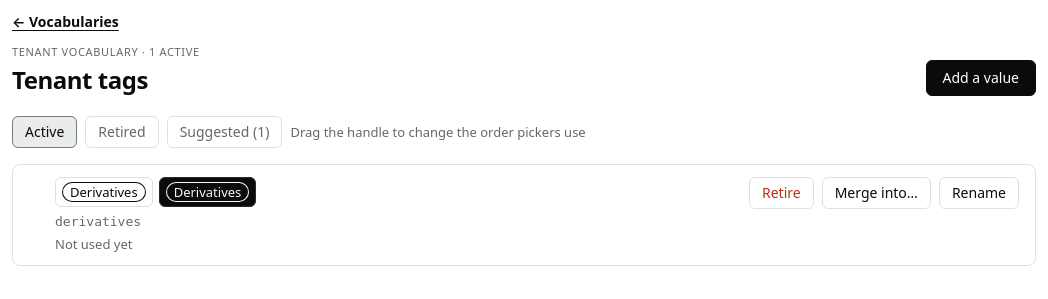
Test: the suggestions waiting on a tenant list › says why an add was refused, by the refusal: 0
The width and height of the screenshot is (1048, 299).
Click the button "Suggested (1)" at [224, 132], box [167,116,282,148]
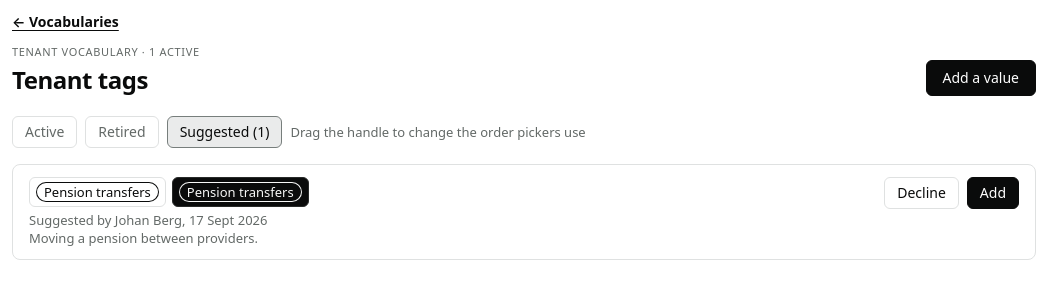
Click the button "Add" at [993, 193], box [967,177,1019,209]
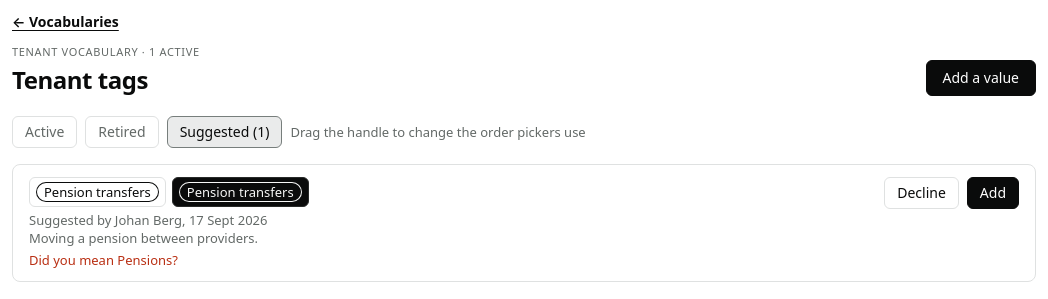
Check: the text "Did you mean Pensions?" is shown, box [29,251,178,269]
